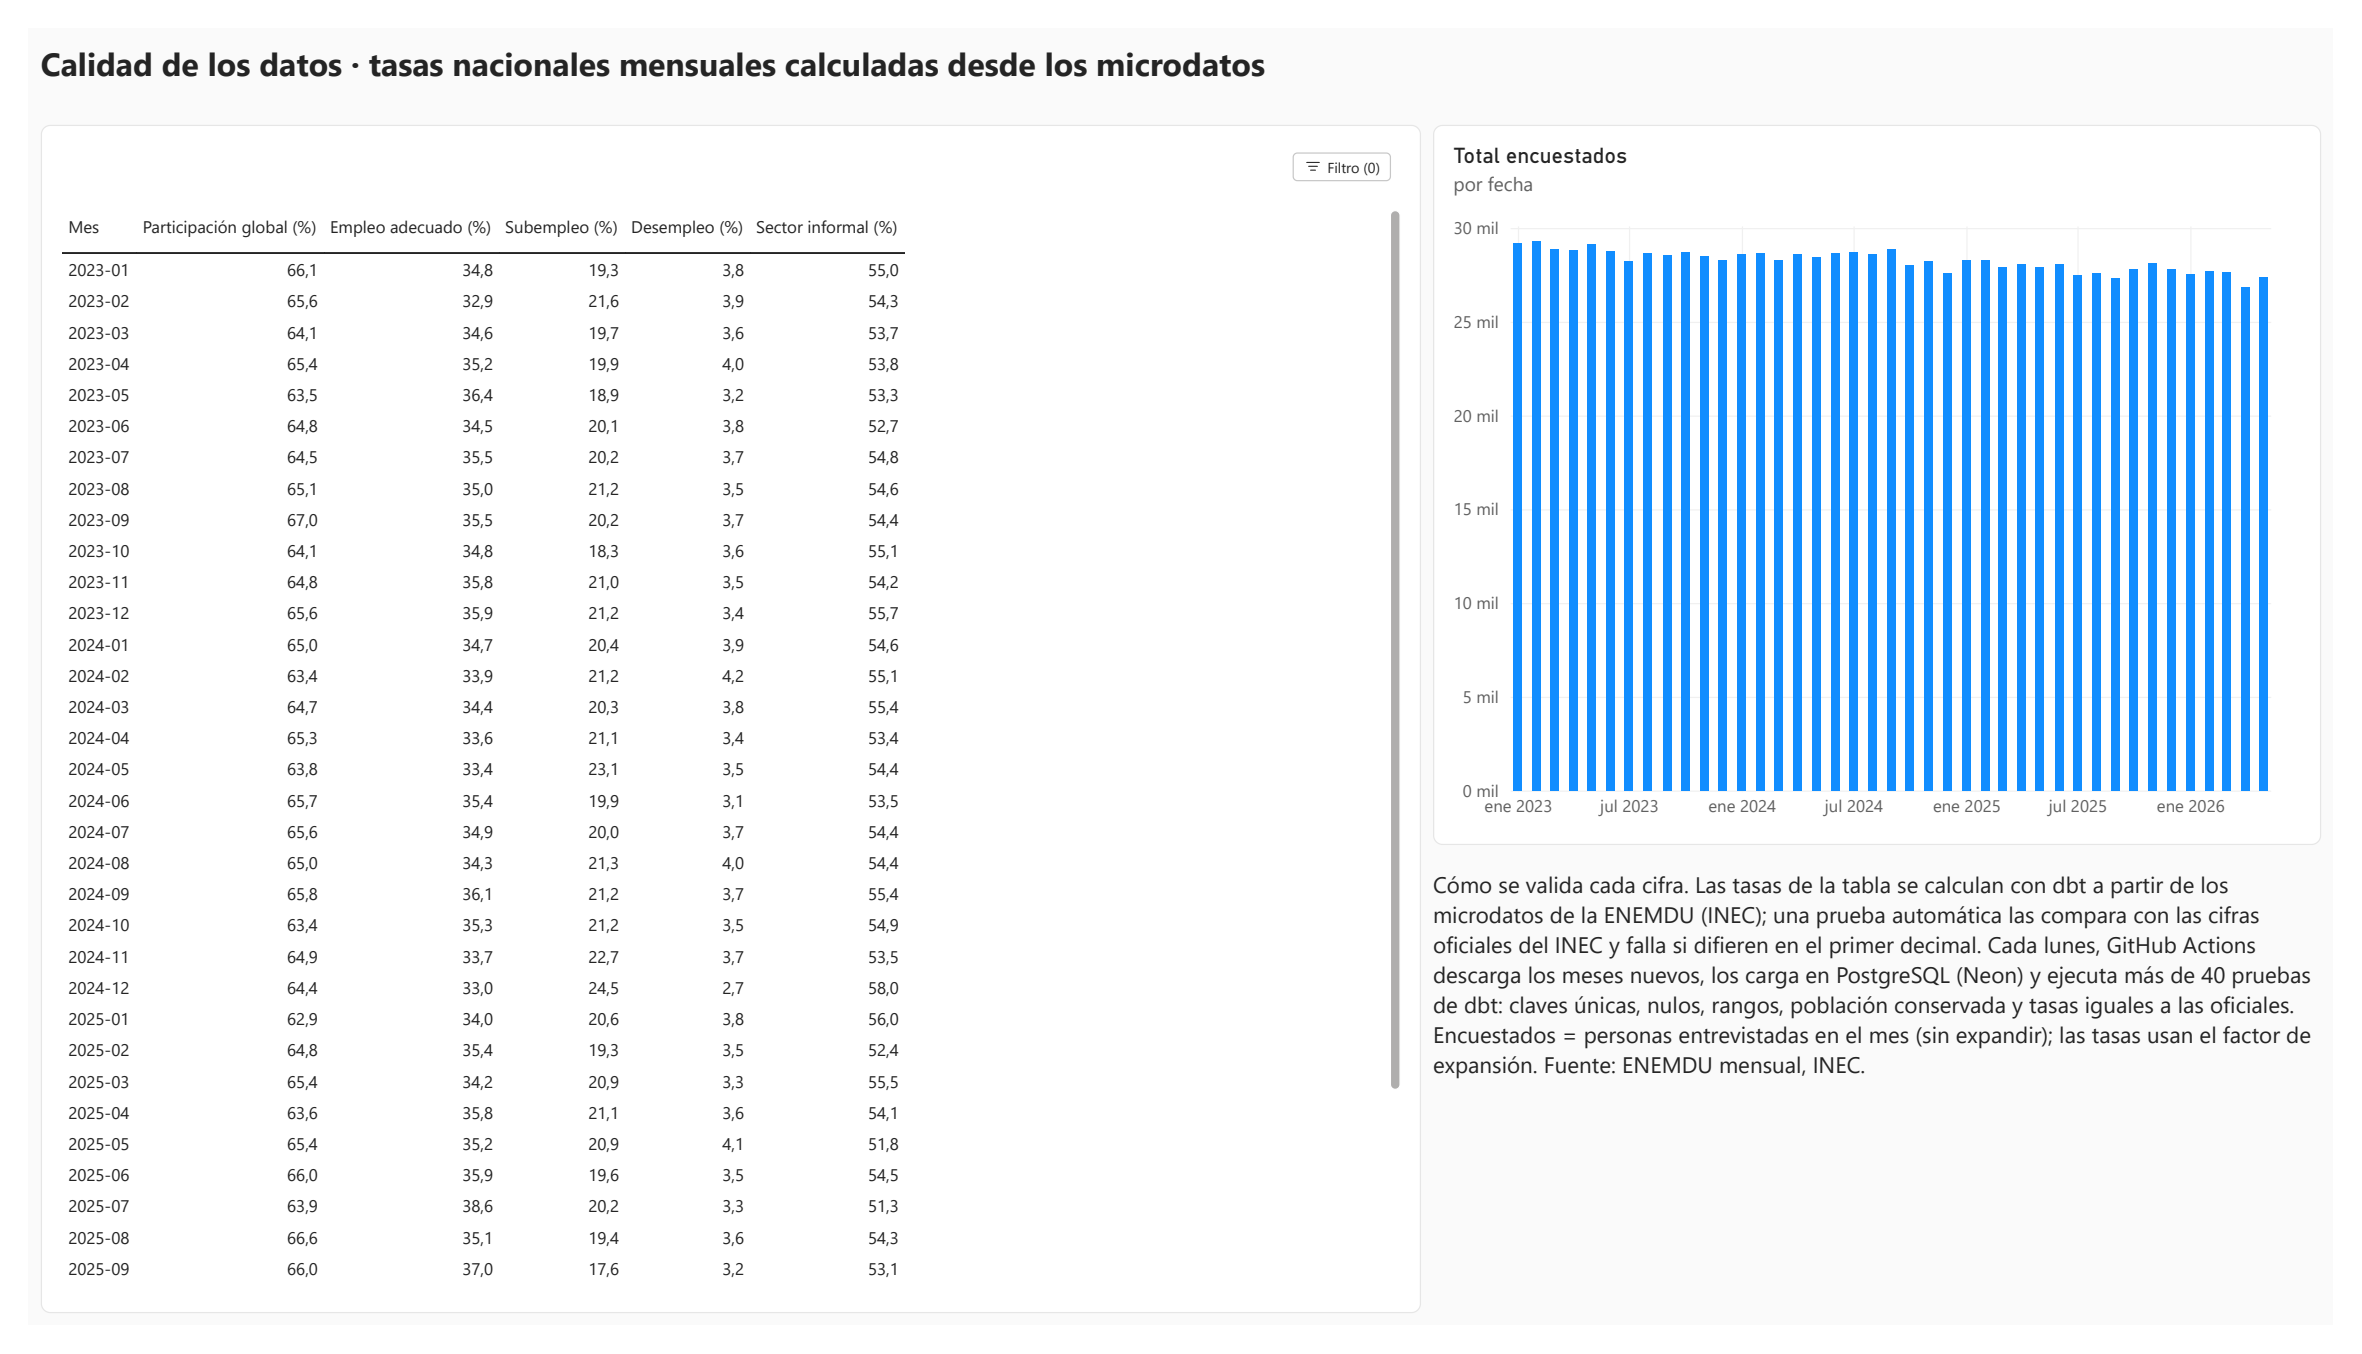

The page's visual inventory and layout, read from the dashboard file:
{"tool":"powerbi","page":{"name":"Calidad","canvas":[1920,1080],"ordinal":3},"visuals":[{"type":"tableEx","fields":{"Values":["indicadores_nacionales.fecha_periodo","Sum(indicadores_nacionales.tasa_participacion_global)","Sum(indicadores_nacionales.tasa_empleo_adecuado)","Sum(indicadores_nacionales.tasa_subempleo)","Sum(indicadores_nacionales.tasa_desempleo)","Sum(indicadores_nacionales.tasa_empleo_sector_informal)"]},"box":[10,80,1150,990],"z":0},{"type":"clusteredColumnChart","fields":{"Category":["bi_mercado_laboral.fecha"],"Y":["bi_mercado_laboral.Total encuestados"]},"box":[1170,80,740,600],"z":1000},{"type":"textbox","box":[1170,680,740,390],"z":2000},{"type":"textbox","box":[100,100,300,300],"z":3000},{"type":"textbox","box":[1170,700,740,370],"z":4000},{"type":"textbox","box":[10,10,1867,60],"z":5000}]}

Visuals, with their boxes in screenshot pixels (x1, y1, x2, y2), scaled from the page's 1920x1080 canvas onto the 2362x1354 screenshot:
tableEx - indicadores_nacionales.fecha_periodo x Sum(indicadores_nacionales.tasa_participacion_global): Rect(12, 100, 1427, 1341)
clusteredColumnChart - bi_mercado_laboral.fecha x bi_mercado_laboral.Total encuestados: Rect(1439, 100, 2350, 853)
textbox: Rect(1439, 853, 2350, 1341)
textbox: Rect(123, 125, 492, 501)
textbox: Rect(1439, 878, 2350, 1341)
textbox: Rect(12, 13, 2309, 88)
